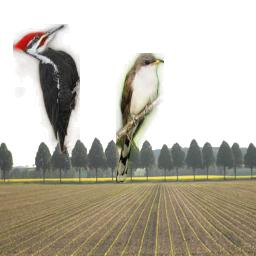Cuckoo: (116, 53, 164, 183)
Woodpecker: (13, 24, 80, 154)
